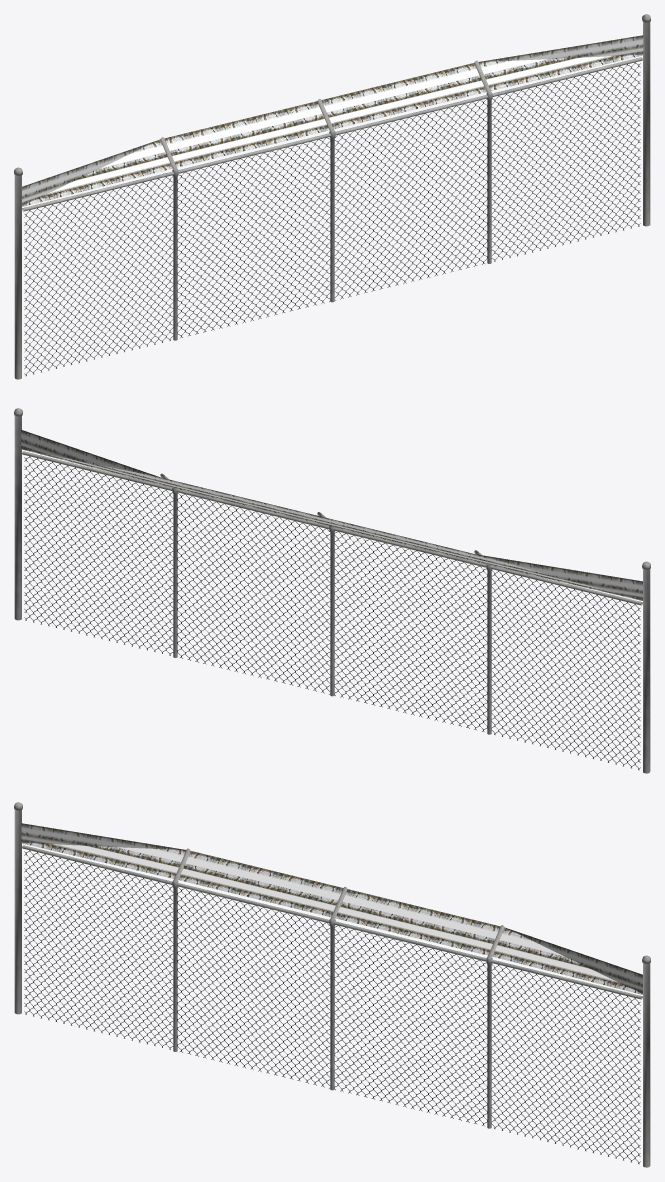
Rendered from fence2.dae.
The picture shows the model from 3 angles, top to bottom: view 1: azimuth 30°, elevation 25°; view 2: azimuth 150°, elevation 25°; view 3: azimuth 330°, elevation 25°; orthographic projection.
Parts seen in each view (by area): view 1: fence2; view 2: fence2; view 3: fence2.
Boxes of the visible parts, x1,y1,x2,y2 form: fence2: (14,14,650,379); fence2: (14,408,650,773); fence2: (14,802,650,1167).
Size of what is drawn, in the model's own units: 11.11 by 0.5038 by 3.5.
Materials: 3 (3 with a texture image).
